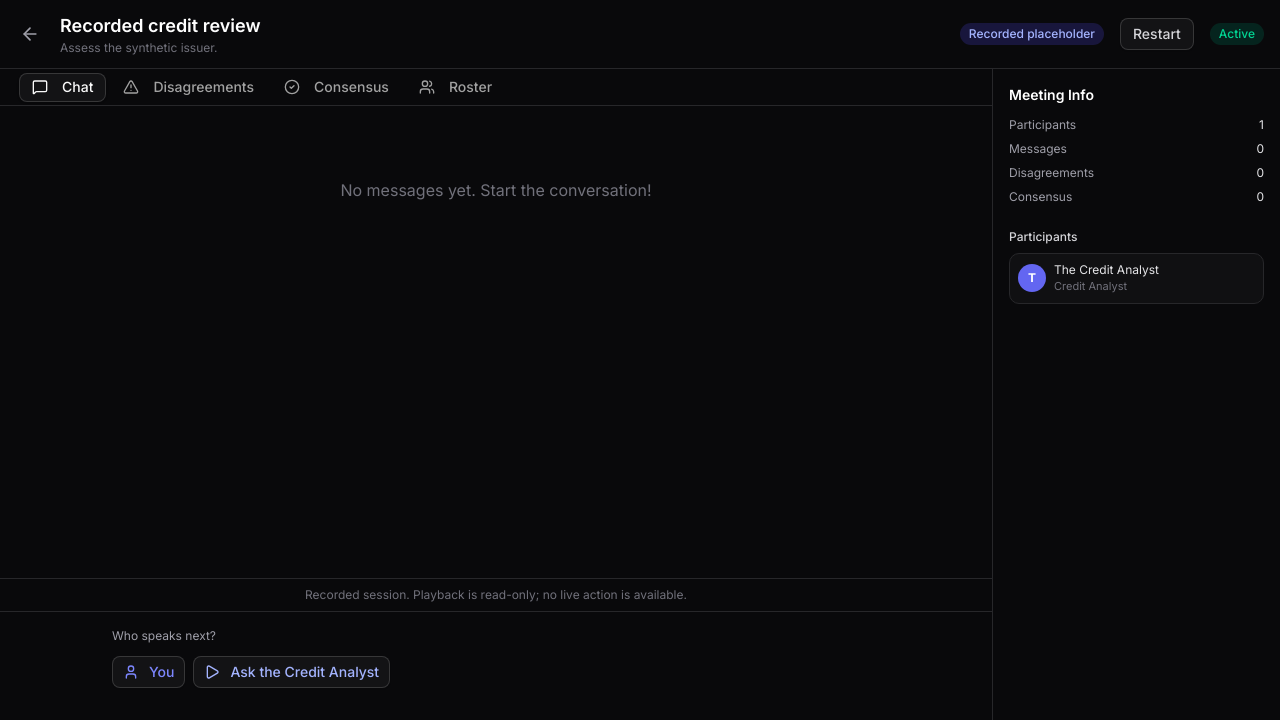
Test case: recorded read frontier › selects the intent checkpoint, then installs the completed checkpoint before settling
Expected: the heading "Recorded credit review" is shown, [60,15,260,36]
What coordinates should you click on to do the following:
click the button "Ask the Credit Analyst"
I would click on:
 (292, 672)
Its box is [193,656,390,688].
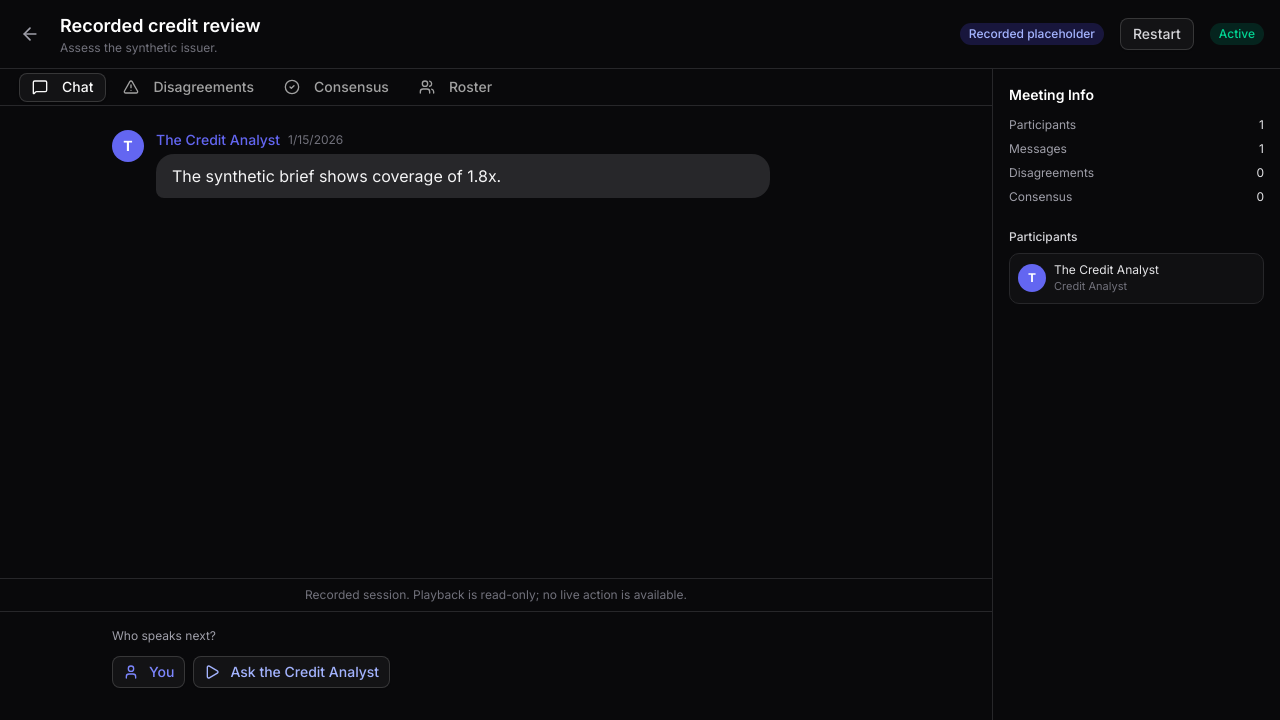
Expected: the text "The synthetic brief shows coverage of 1.8x." is shown once, [172,166,501,186]
Expected: the text "The synthetic brief shows coverage of 1.8x." is shown, [172,166,501,186]
